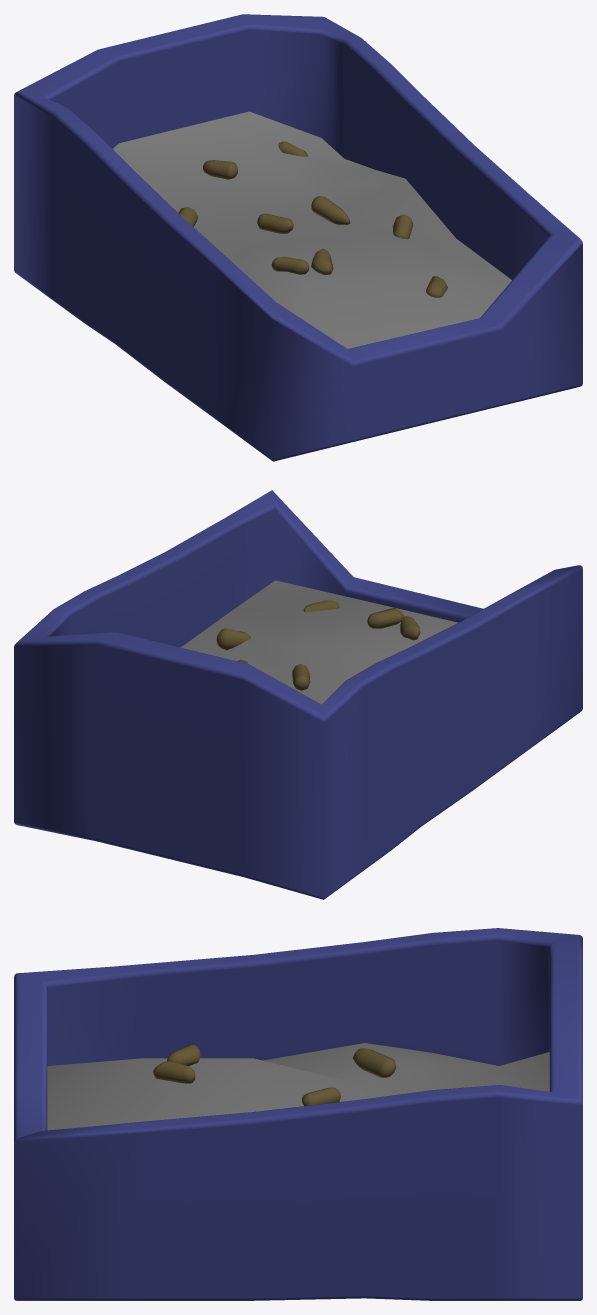
The model's file is catBox.fbx.
3 views of the same model, one above another, from view 1: azimuth 30°, elevation 25°; view 2: azimuth 150°, elevation 25°; view 3: azimuth 270°, elevation 25° (orthographic). The views are drawn at different scales.
Visible parts, largest first — view 1: catBox_Geo_high:catbox; view 2: catBox_Geo_high:catbox; view 3: catBox_Geo_high:catbox.
Part boxes in pixels (box(x1,y1,x2,y2)): catBox_Geo_high:catbox: box(14, 14, 582, 461); catBox_Geo_high:catbox: box(14, 490, 582, 899); catBox_Geo_high:catbox: box(14, 928, 582, 1300).
Size of the model in its own units: 50.46 by 31.98 by 72.71.
